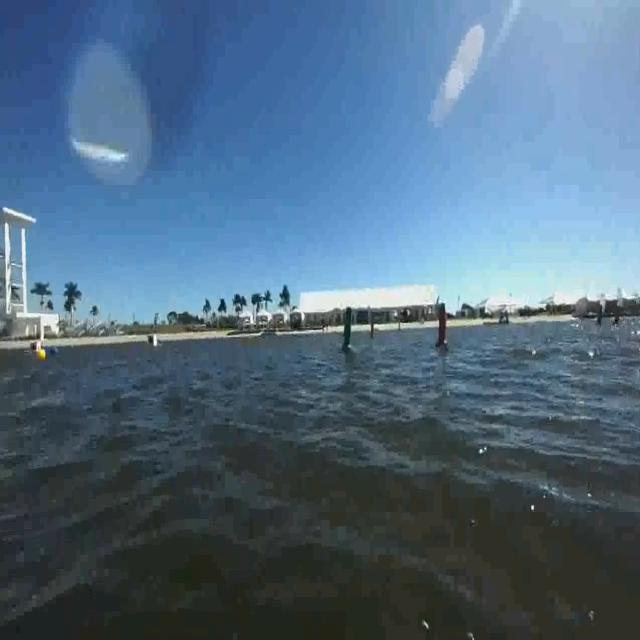green-column-buoy: (334, 298, 361, 359)
red-column-buoy: (432, 292, 453, 351)
yellow-duck: (28, 332, 50, 366)
